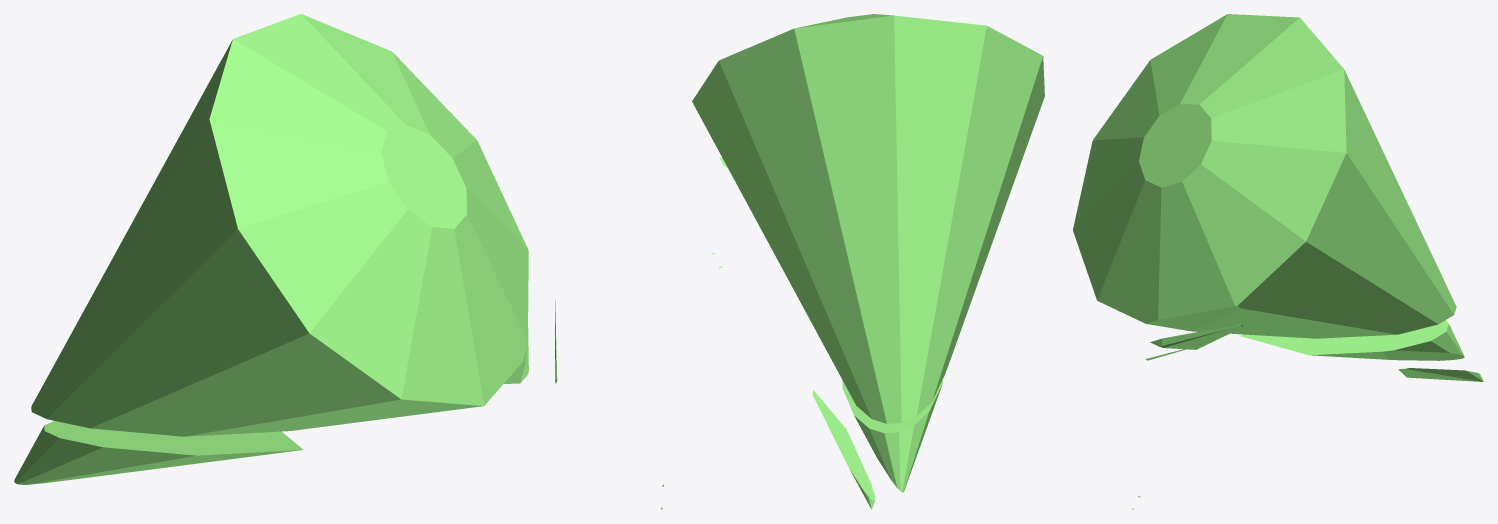
The model's file is gem_716349.gltf.
The picture shows the model from 3 angles, left to right: view 1: azimuth 30°, elevation 25°; view 2: azimuth 150°, elevation 25°; view 3: azimuth 270°, elevation 25°; orthographic projection. The views are drawn at different scales.
Bounding box in the file's own units: 1.57 × 1.71 × 1.6.
